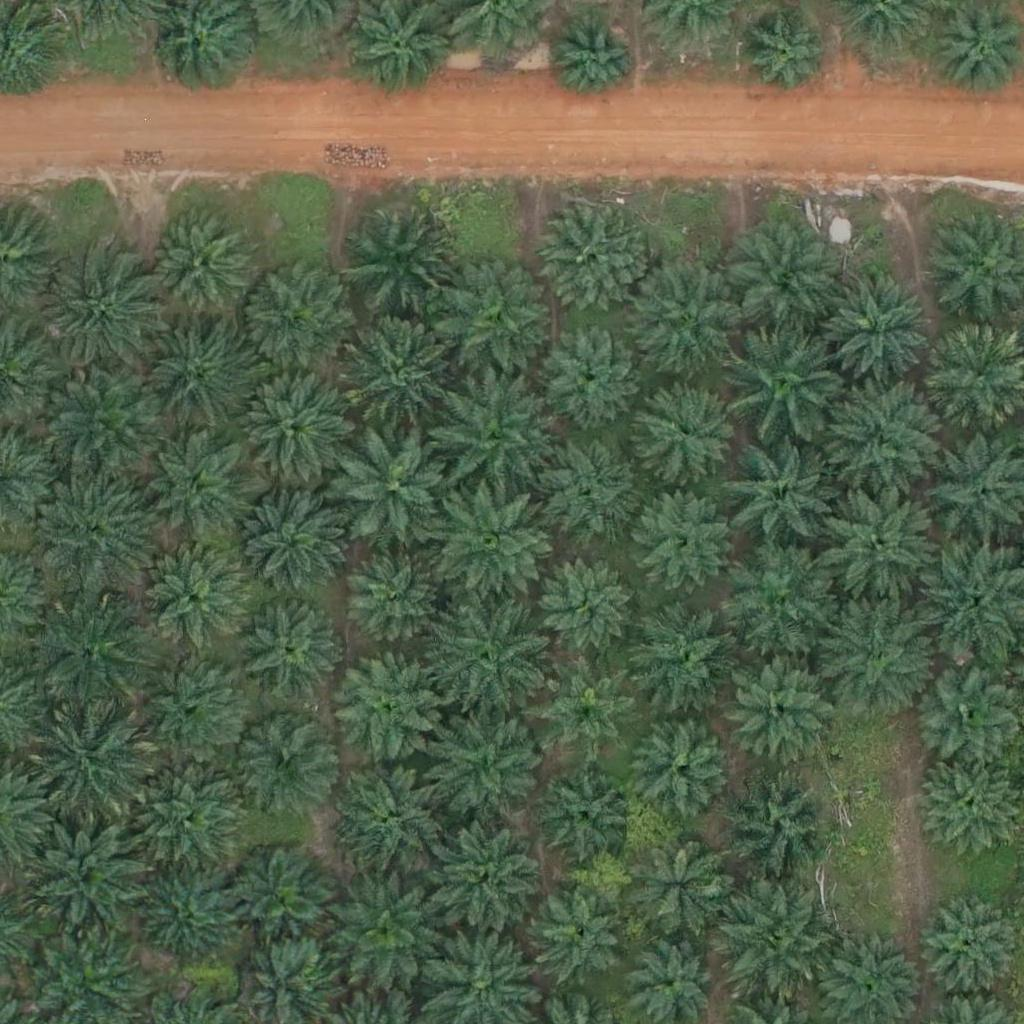Kelapa_Sawit: (824, 273, 937, 387), (824, 482, 937, 596), (723, 542, 836, 656), (440, 483, 553, 597), (337, 427, 450, 541), (145, 432, 258, 546), (32, 825, 145, 939), (820, 387, 933, 500), (817, 601, 930, 714), (730, 324, 843, 437), (628, 598, 741, 711), (720, 894, 833, 1007), (537, 205, 650, 318), (435, 266, 548, 379), (327, 874, 440, 987), (334, 758, 447, 871), (326, 647, 439, 760), (238, 262, 351, 375), (239, 366, 352, 479), (232, 598, 345, 711), (227, 706, 340, 819), (224, 840, 337, 953), (125, 764, 238, 877), (136, 321, 249, 434), (50, 367, 163, 480), (30, 471, 143, 584), (634, 262, 746, 376), (435, 712, 547, 826), (143, 540, 255, 654), (730, 662, 842, 775), (724, 437, 836, 550), (728, 225, 840, 338), (718, 765, 830, 878), (528, 433, 640, 546), (438, 381, 550, 494), (434, 601, 546, 714), (431, 818, 543, 931), (347, 202, 459, 315), (340, 313, 452, 426), (233, 491, 345, 604), (136, 652, 248, 765), (44, 255, 156, 368), (37, 595, 149, 708), (38, 708, 150, 821), (919, 662, 1019, 763), (636, 378, 736, 479), (636, 724, 736, 825), (632, 835, 732, 936), (539, 759, 639, 860), (533, 551, 633, 652), (538, 319, 638, 420), (139, 873, 239, 974), (146, 215, 246, 316), (923, 753, 1023, 853), (635, 489, 735, 589), (532, 883, 632, 983), (538, 658, 638, 758), (342, 547, 442, 647), (743, 16, 831, 104), (550, 16, 637, 104)
